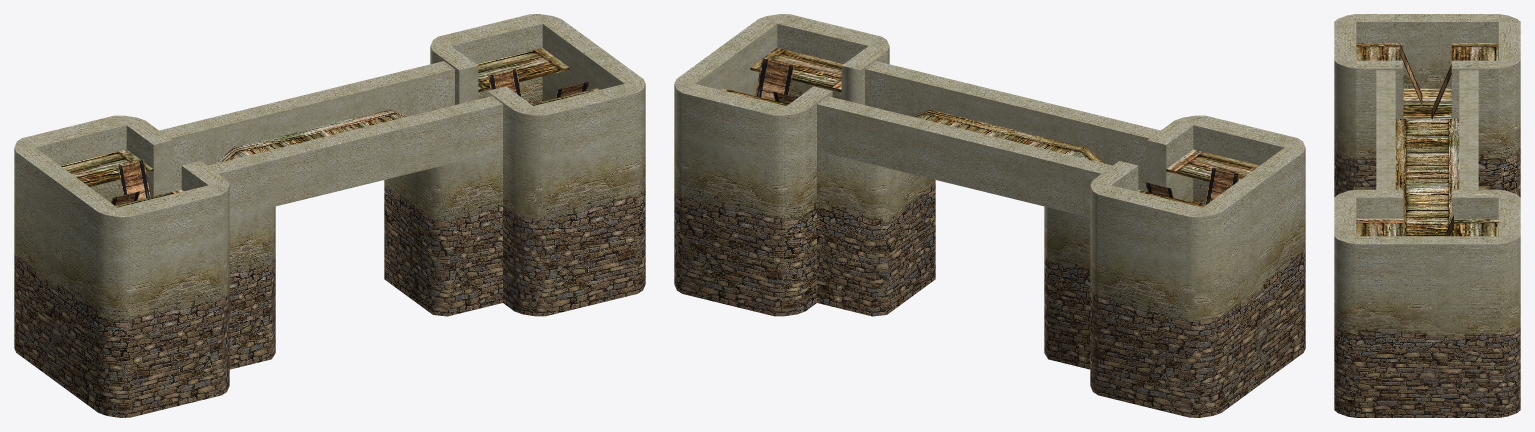
File: iber_wall_gate_new.dae
3 renders of one model, left to right at view 1: azimuth 30°, elevation 25°; view 2: azimuth 150°, elevation 25°; view 3: azimuth 270°, elevation 25°, orthographic. The views are drawn at different scales.
Parts seen in each view (by area): view 1: Iberians_Gatehouse; view 2: Iberians_Gatehouse; view 3: Iberians_Gatehouse.
Part boxes in pixels (x1=…): Iberians_Gatehouse: x1=14, y1=14, x2=645, y2=417; Iberians_Gatehouse: x1=674, y1=14, x2=1305, y2=417; Iberians_Gatehouse: x1=1334, y1=14, x2=1520, y2=417.
Size of the model in its own units: 36.71 by 12.57 by 12.91.
